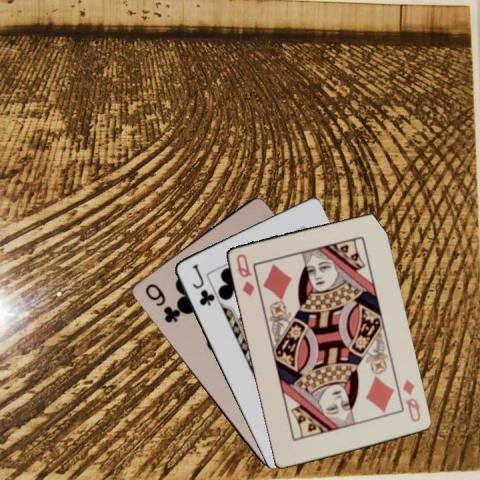9c: (142, 280, 179, 325)
Jc: (188, 261, 214, 307)
Qd: (399, 377, 422, 423), (233, 251, 255, 297)
